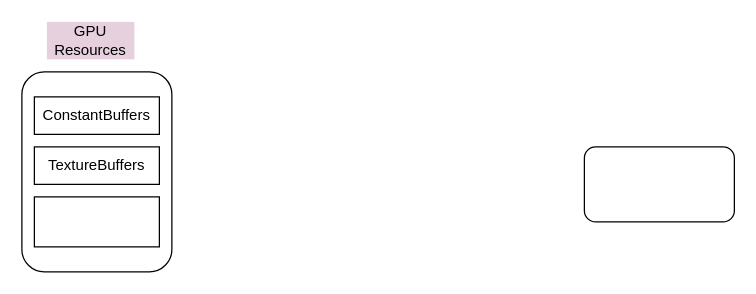
Image size: 756x294. Some labels were removed from this diagram. The box of each missing label's shape, as (x1, y1, x2, y2) in pixels:
GPU Shader Object: (33, 196, 159, 247)
Shader: (583, 146, 734, 222)
